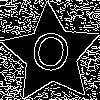O: (26, 29, 74, 83)
